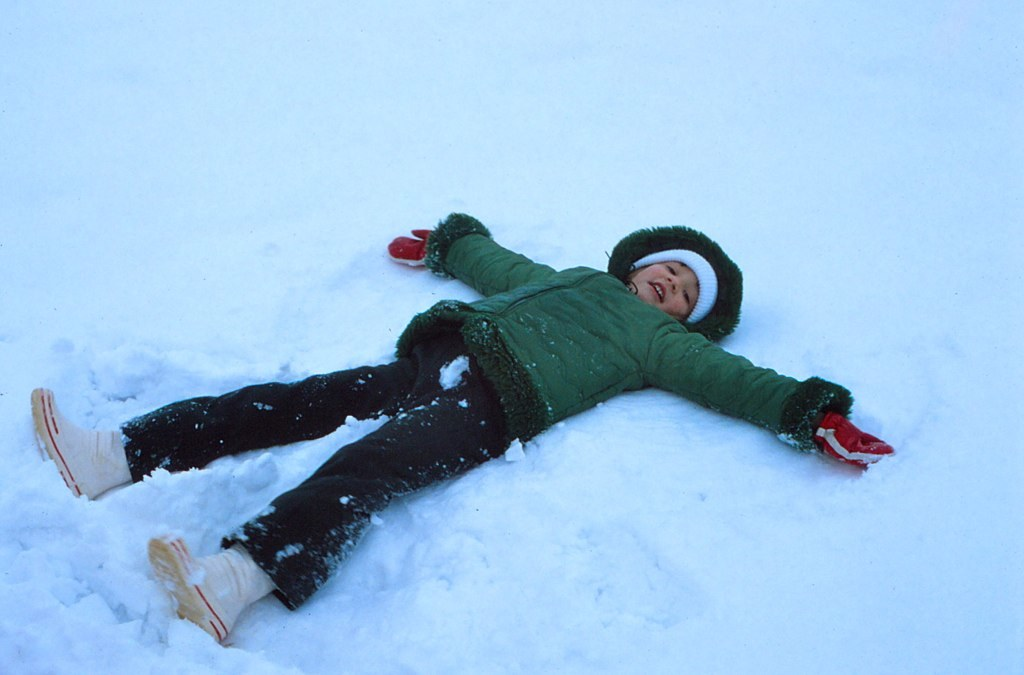Person: (29, 211, 896, 644)
